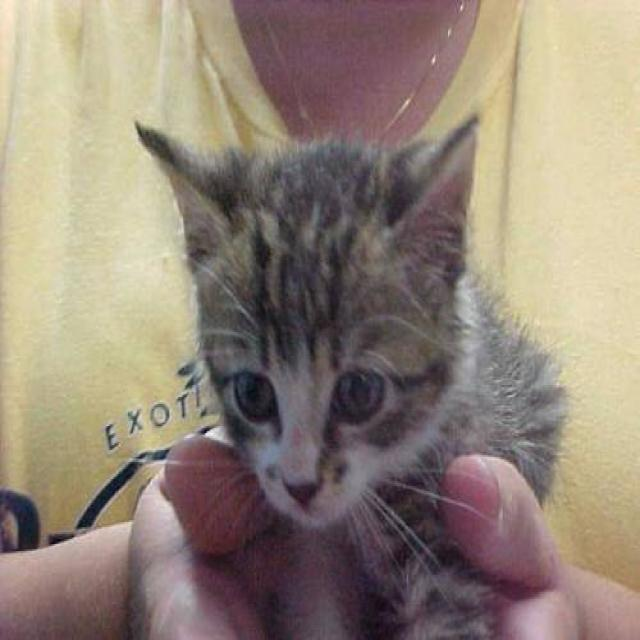cat: (132, 111, 571, 638)
